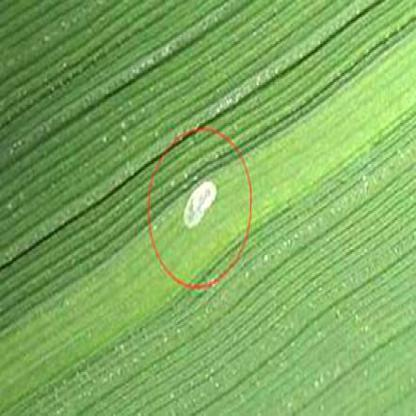leaf-folder: (176, 172, 226, 244)
